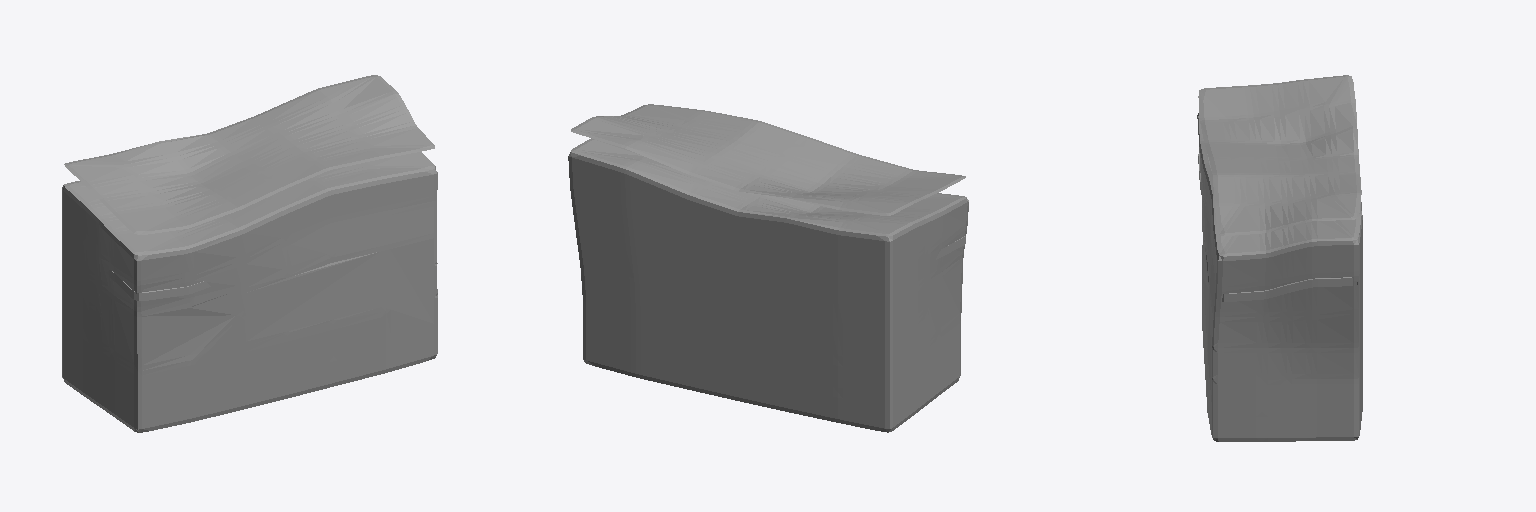
File: platgrid.obj
The picture shows the model from 3 angles: view 1: azimuth 30°, elevation 25°; view 2: azimuth 150°, elevation 25°; view 3: azimuth 270°, elevation 25°; orthographic projection.
Parts seen in each view (by area): view 1: Cube_Cube.001, Cube_Cube.002, Cube_Cube.000; view 2: Cube_Cube.001, Cube_Cube.002; view 3: Cube_Cube.001, Cube_Cube.002, Cube_Cube.000.
Part boxes in pixels (left/top/right/bottom): Cube_Cube.001: left=62, top=152, right=437, bottom=432; Cube_Cube.002: left=64, top=75, right=434, bottom=234; Cube_Cube.000: left=106, top=270, right=210, bottom=300; Cube_Cube.001: left=568, top=138, right=968, bottom=432; Cube_Cube.002: left=571, top=104, right=965, bottom=215; Cube_Cube.001: left=1197, top=113, right=1362, bottom=441; Cube_Cube.002: left=1198, top=75, right=1361, bottom=235; Cube_Cube.000: left=1198, top=153, right=1357, bottom=301.
Bounding box in the file's own units: 2.96 × 2.02 × 1.32.